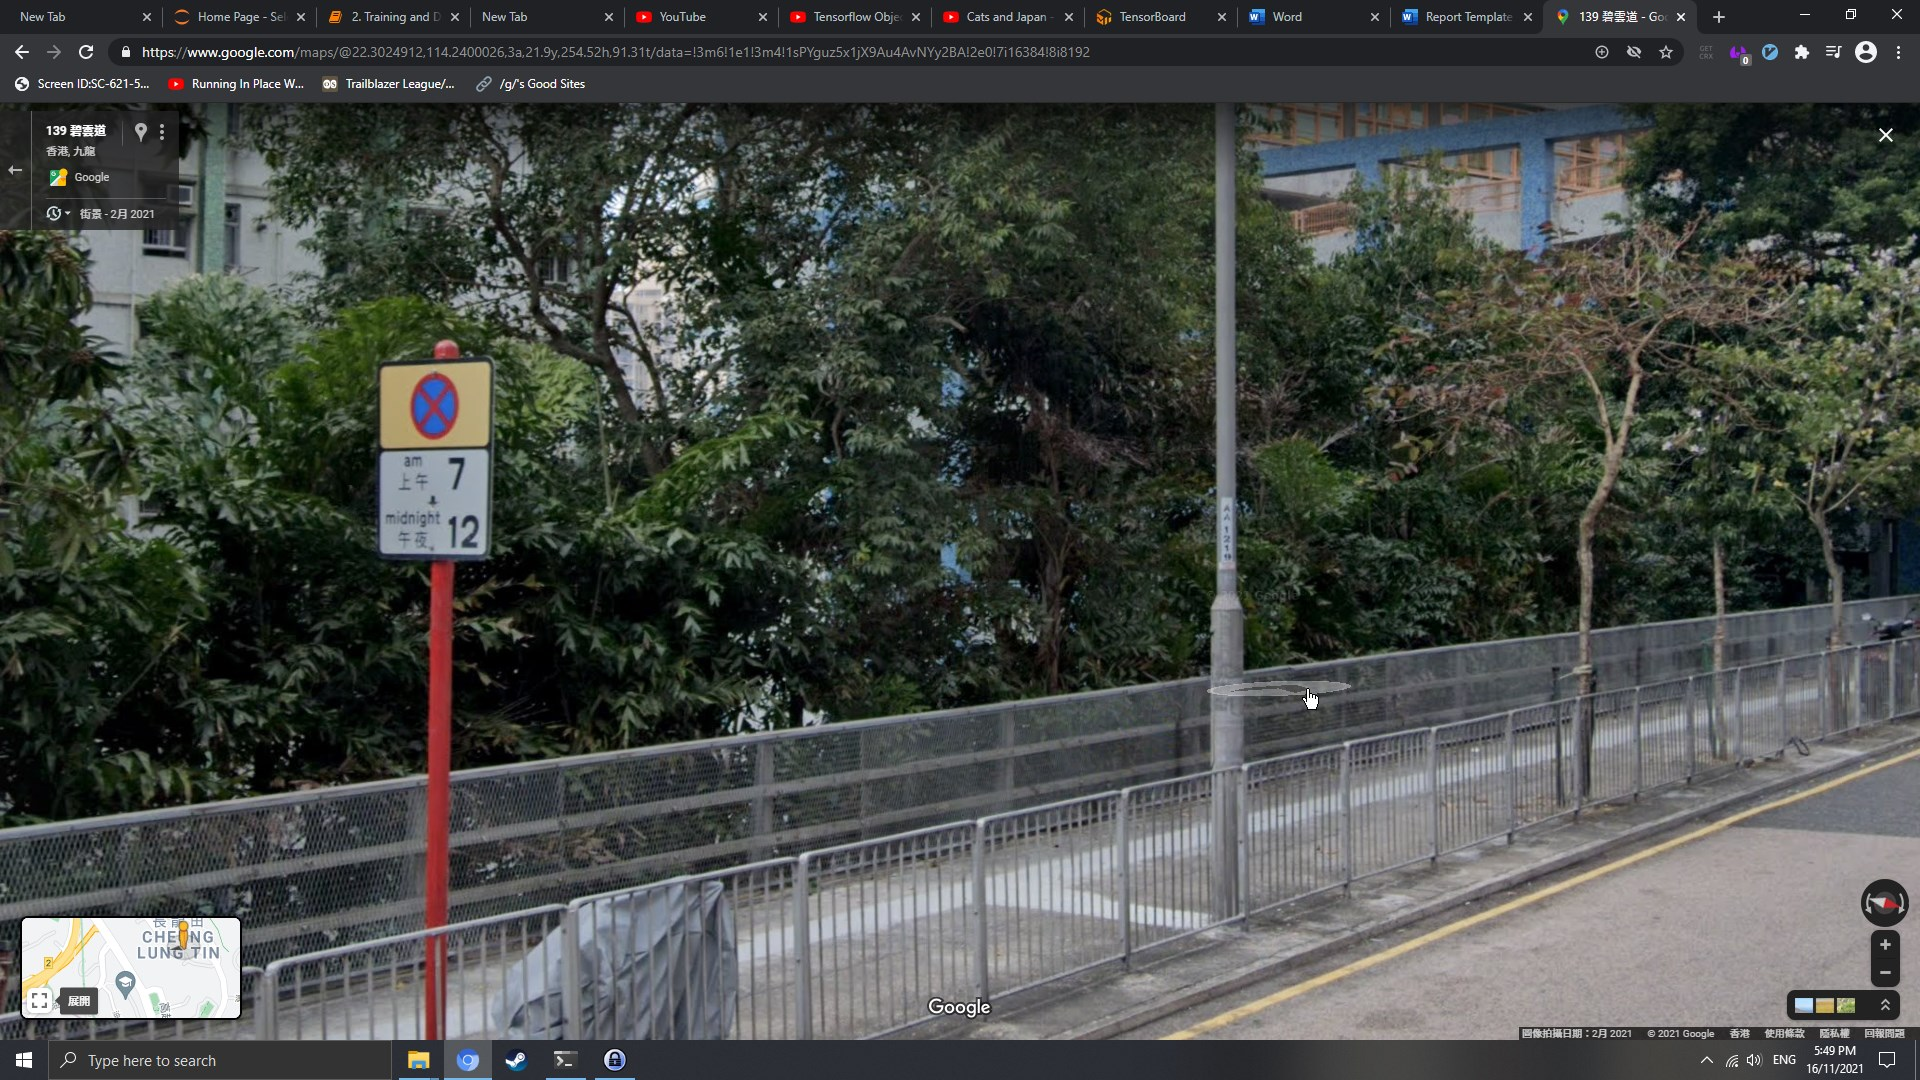NoStop: (409, 373, 460, 440)
